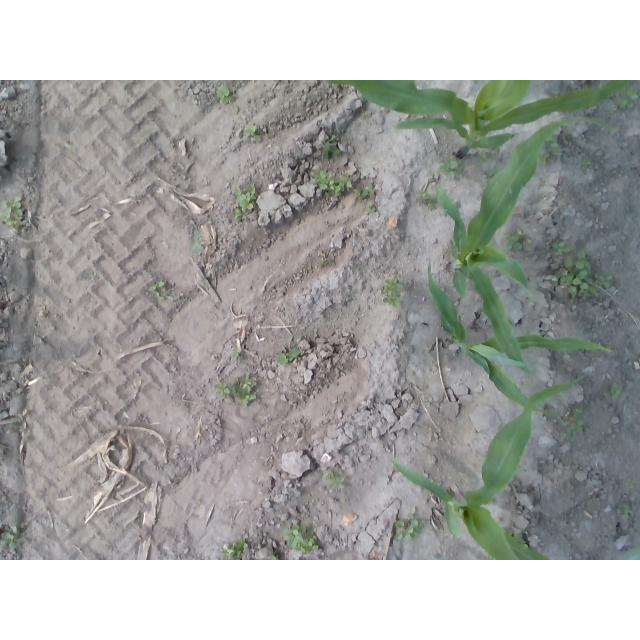Maize: (434, 115, 623, 375), (386, 376, 640, 560), (425, 258, 617, 422), (319, 81, 630, 160)
Weeds: (550, 252, 599, 305), (215, 373, 257, 407), (309, 169, 352, 199), (284, 523, 321, 554), (393, 505, 425, 540), (232, 185, 256, 220), (1, 195, 24, 229), (561, 406, 586, 436), (382, 279, 406, 310), (1, 526, 28, 551), (503, 227, 531, 249), (221, 538, 248, 560), (438, 160, 465, 181), (504, 527, 529, 549), (326, 467, 347, 491), (414, 190, 438, 211), (322, 135, 341, 160), (276, 347, 301, 365), (149, 280, 171, 300), (545, 133, 564, 156), (188, 229, 204, 252), (617, 84, 639, 100), (351, 185, 375, 199), (592, 272, 612, 288), (243, 123, 260, 141), (483, 165, 502, 181), (550, 239, 571, 253), (215, 85, 229, 105), (618, 503, 632, 521), (614, 98, 635, 110), (604, 382, 618, 399), (538, 152, 550, 164), (364, 201, 376, 213), (229, 347, 239, 361), (476, 153, 488, 164), (625, 478, 638, 488), (320, 253, 329, 267), (582, 155, 593, 166), (89, 273, 99, 281), (269, 554, 279, 560)
